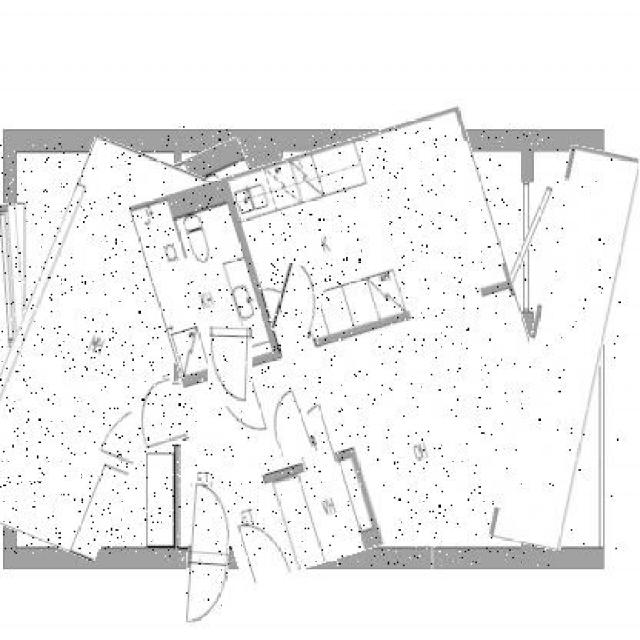door: (156, 126, 550, 566), (0, 143, 206, 554), (509, 146, 622, 549), (166, 143, 292, 331)
window: (186, 482, 231, 624), (129, 377, 185, 449), (276, 266, 324, 337), (210, 328, 252, 408), (268, 388, 314, 460)
zone: (3, 203, 29, 482), (509, 348, 543, 517), (511, 185, 542, 306)
